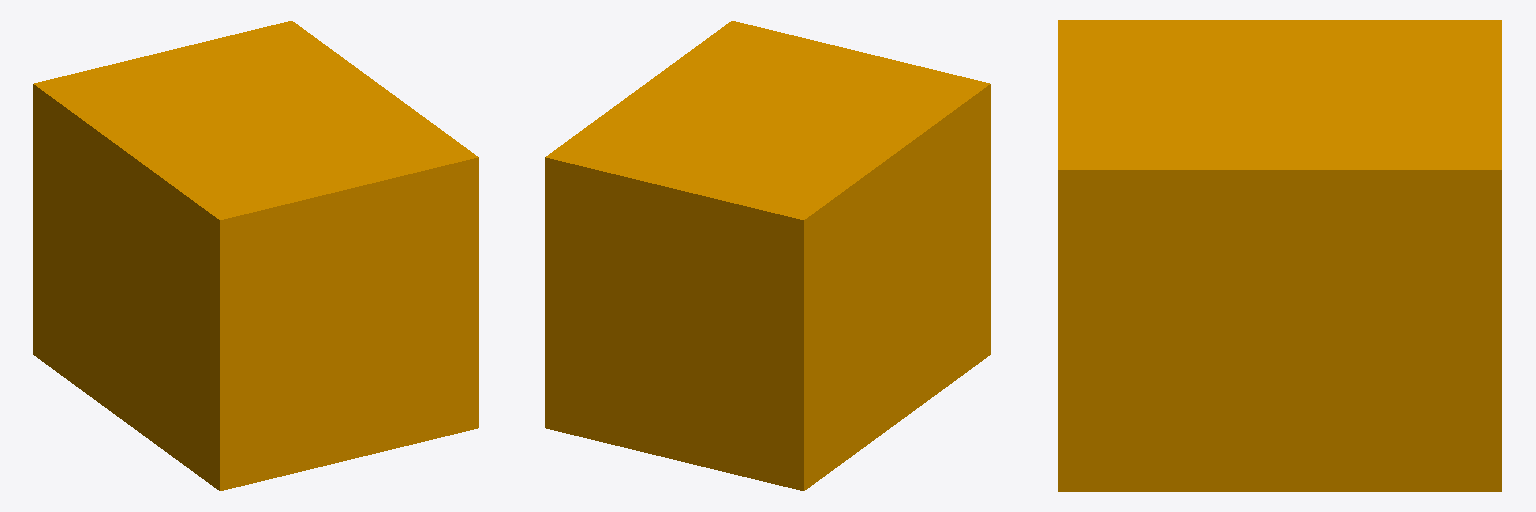
The robot description file, URDF, robot "object":
<?xml version="0.0"?>
	<robot name="object">
		<link name="object">
			<visual>
				<origin xyz="0 0 0"/>
				<geometry>
					<box size="0.4 0.5 0.4"/>
				</geometry>
			</visual>
			<inertial>
				<mass value="8.000"/>
			</inertial>
			<collision>
				<origin xyz="0 0 0"/>
				<geometry>
					<box size="0.4 0.5 0.4"/>
				</geometry>
			</collision>
		</link>

	</robot>

--- Render facts (derived) ---
Views: 3 orthographic renders of the robot side by side, from view 1: azimuth 30°, elevation 25°; view 2: azimuth 150°, elevation 25°; view 3: azimuth 270°, elevation 25°.
Robot: object — 1 links, 0 joints (none); root link object; default pose: all joints at 0.
Visible links, largest first — view 1: object; view 2: object; view 3: object.
Boxes of the visible links, box(x1,y1,x2,y2) form: object: box(33, 21, 478, 490); object: box(545, 21, 990, 490); object: box(1058, 20, 1501, 491).
Bounding box of the posed robot: 0.4 × 0.5 × 0.4 m (x, y, z).
Geometry: primitives only (box / cylinder / sphere), no mesh files.